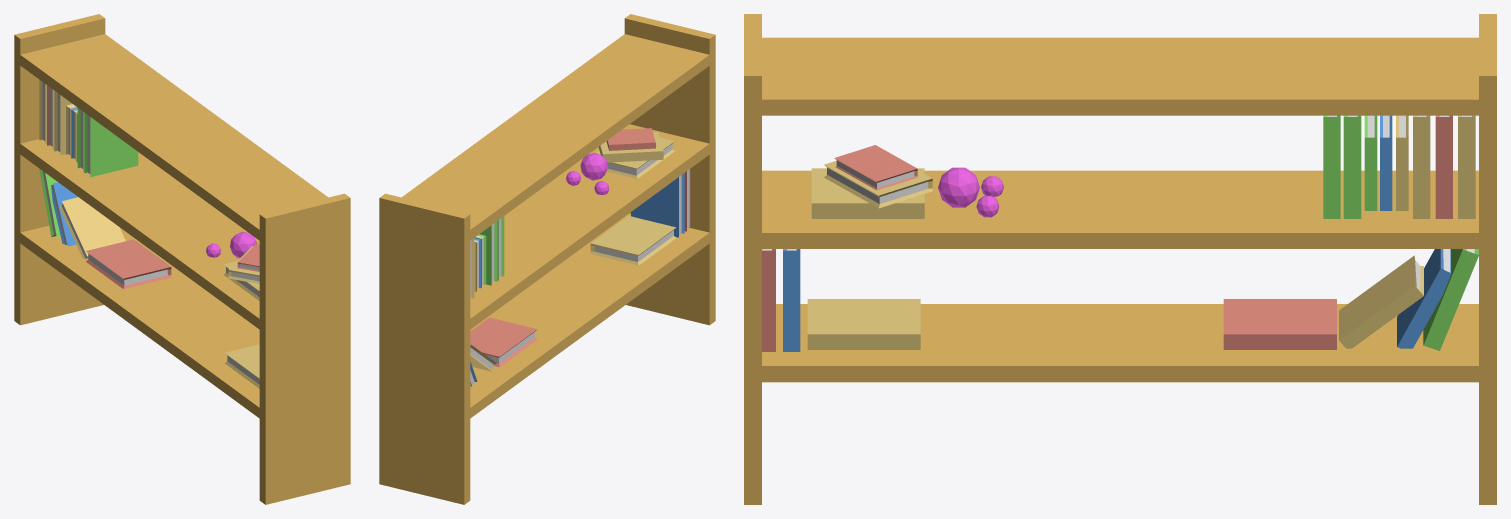
The model's file is BooxsPool.fbx.
3 renders of one model, left to right at view 1: azimuth 30°, elevation 25°; view 2: azimuth 150°, elevation 25°; view 3: azimuth 270°, elevation 25°, orthographic. The views are drawn at different scales.
Parts seen in each view (by area): view 1: Cube.005, Книги, Икосфера; view 2: Cube.005, Книги, Икосфера; view 3: Cube.005, Книги, Икосфера.
Boxes of the visible parts, x1,y1,x2,y2 form: Cube.005: (14,14,350,504); Книги: (39,80,259,388); Икосфера: (206,231,256,258); Cube.005: (379,14,715,504); Книги: (470,128,690,386); Икосфера: (566,153,609,194); Cube.005: (744,14,1496,504); Книги: (762,115,1478,351); Икосфера: (938,167,1003,217).
Bounding box in the file's own units: 200 × 644 × 1024.
